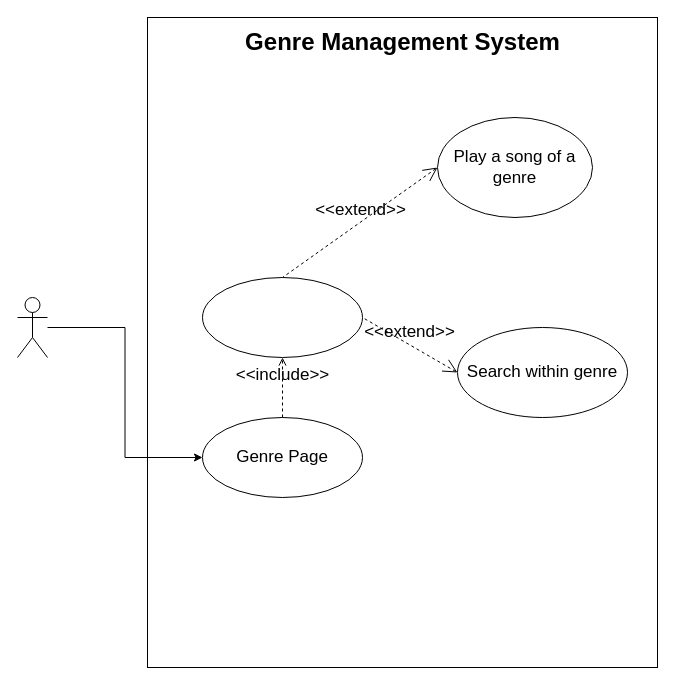
The diagram is 675 pixels wide and 685 high, and some of its shapes have lost their labels. The shapes that lost their labels are listed below. From the top down, each one's centre as x and y in pixels, then its label:
(x=32, y=327): User
(x=282, y=317): View a genre
